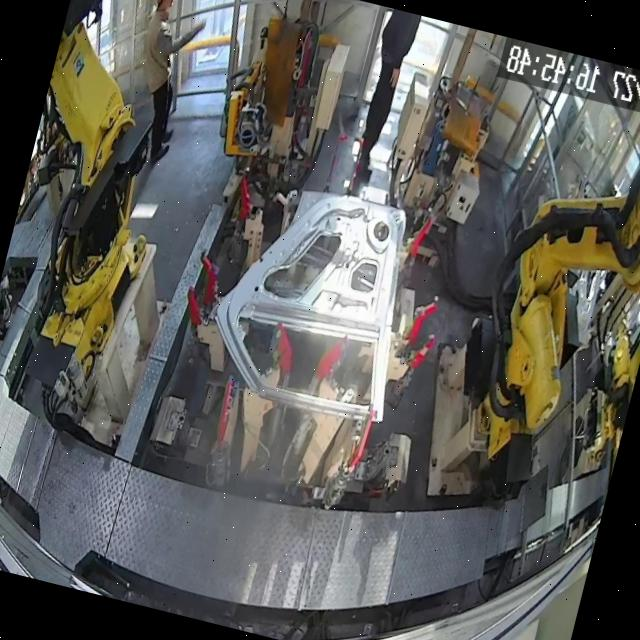Person: (115, 0, 213, 167), (346, 8, 422, 186)
